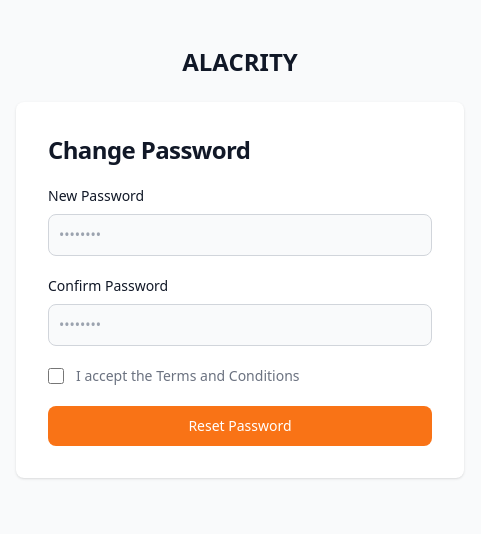
Test: ResetPasswordForm › validates password strength
Type "weak" into the password field labelled "New Password". click: (240, 235)
box: [48,214,432,256]
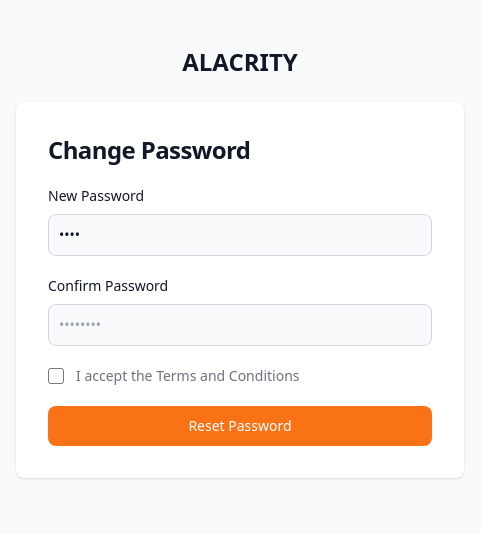
Type "weak" into the password field labelled "Confirm Password". click: (240, 325)
box: [48,304,432,346]
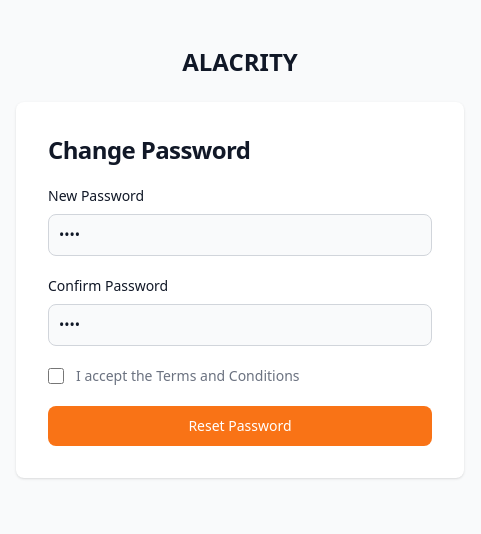
Click the checkbox labelled "I accept the Terms and Conditions". click: (56, 376)
box: [48,368,64,384]
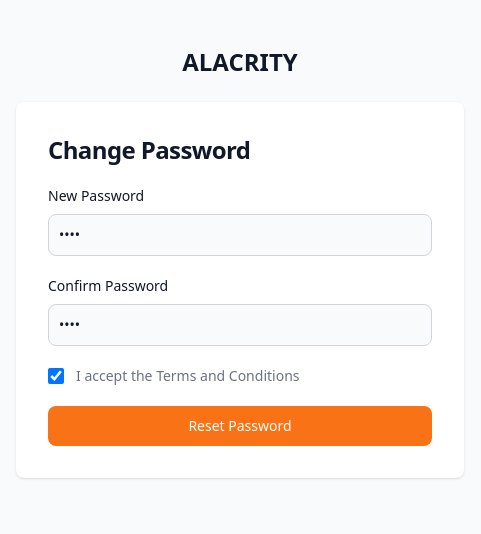
Click the button "Reset Password". click: (240, 426)
box: [48,406,432,446]
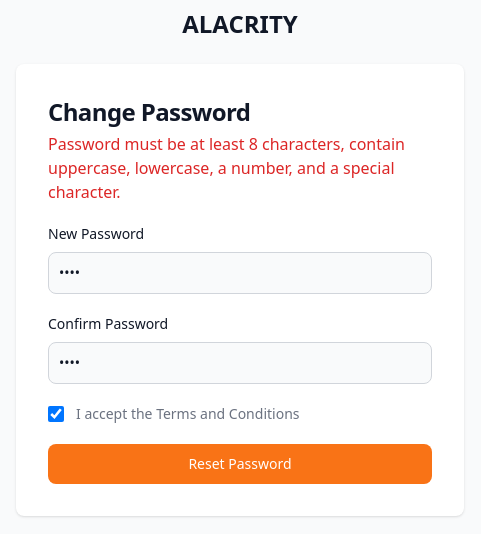
Expected: the text "Password must be at least 8 characters" is shown, [48,133,405,203]
